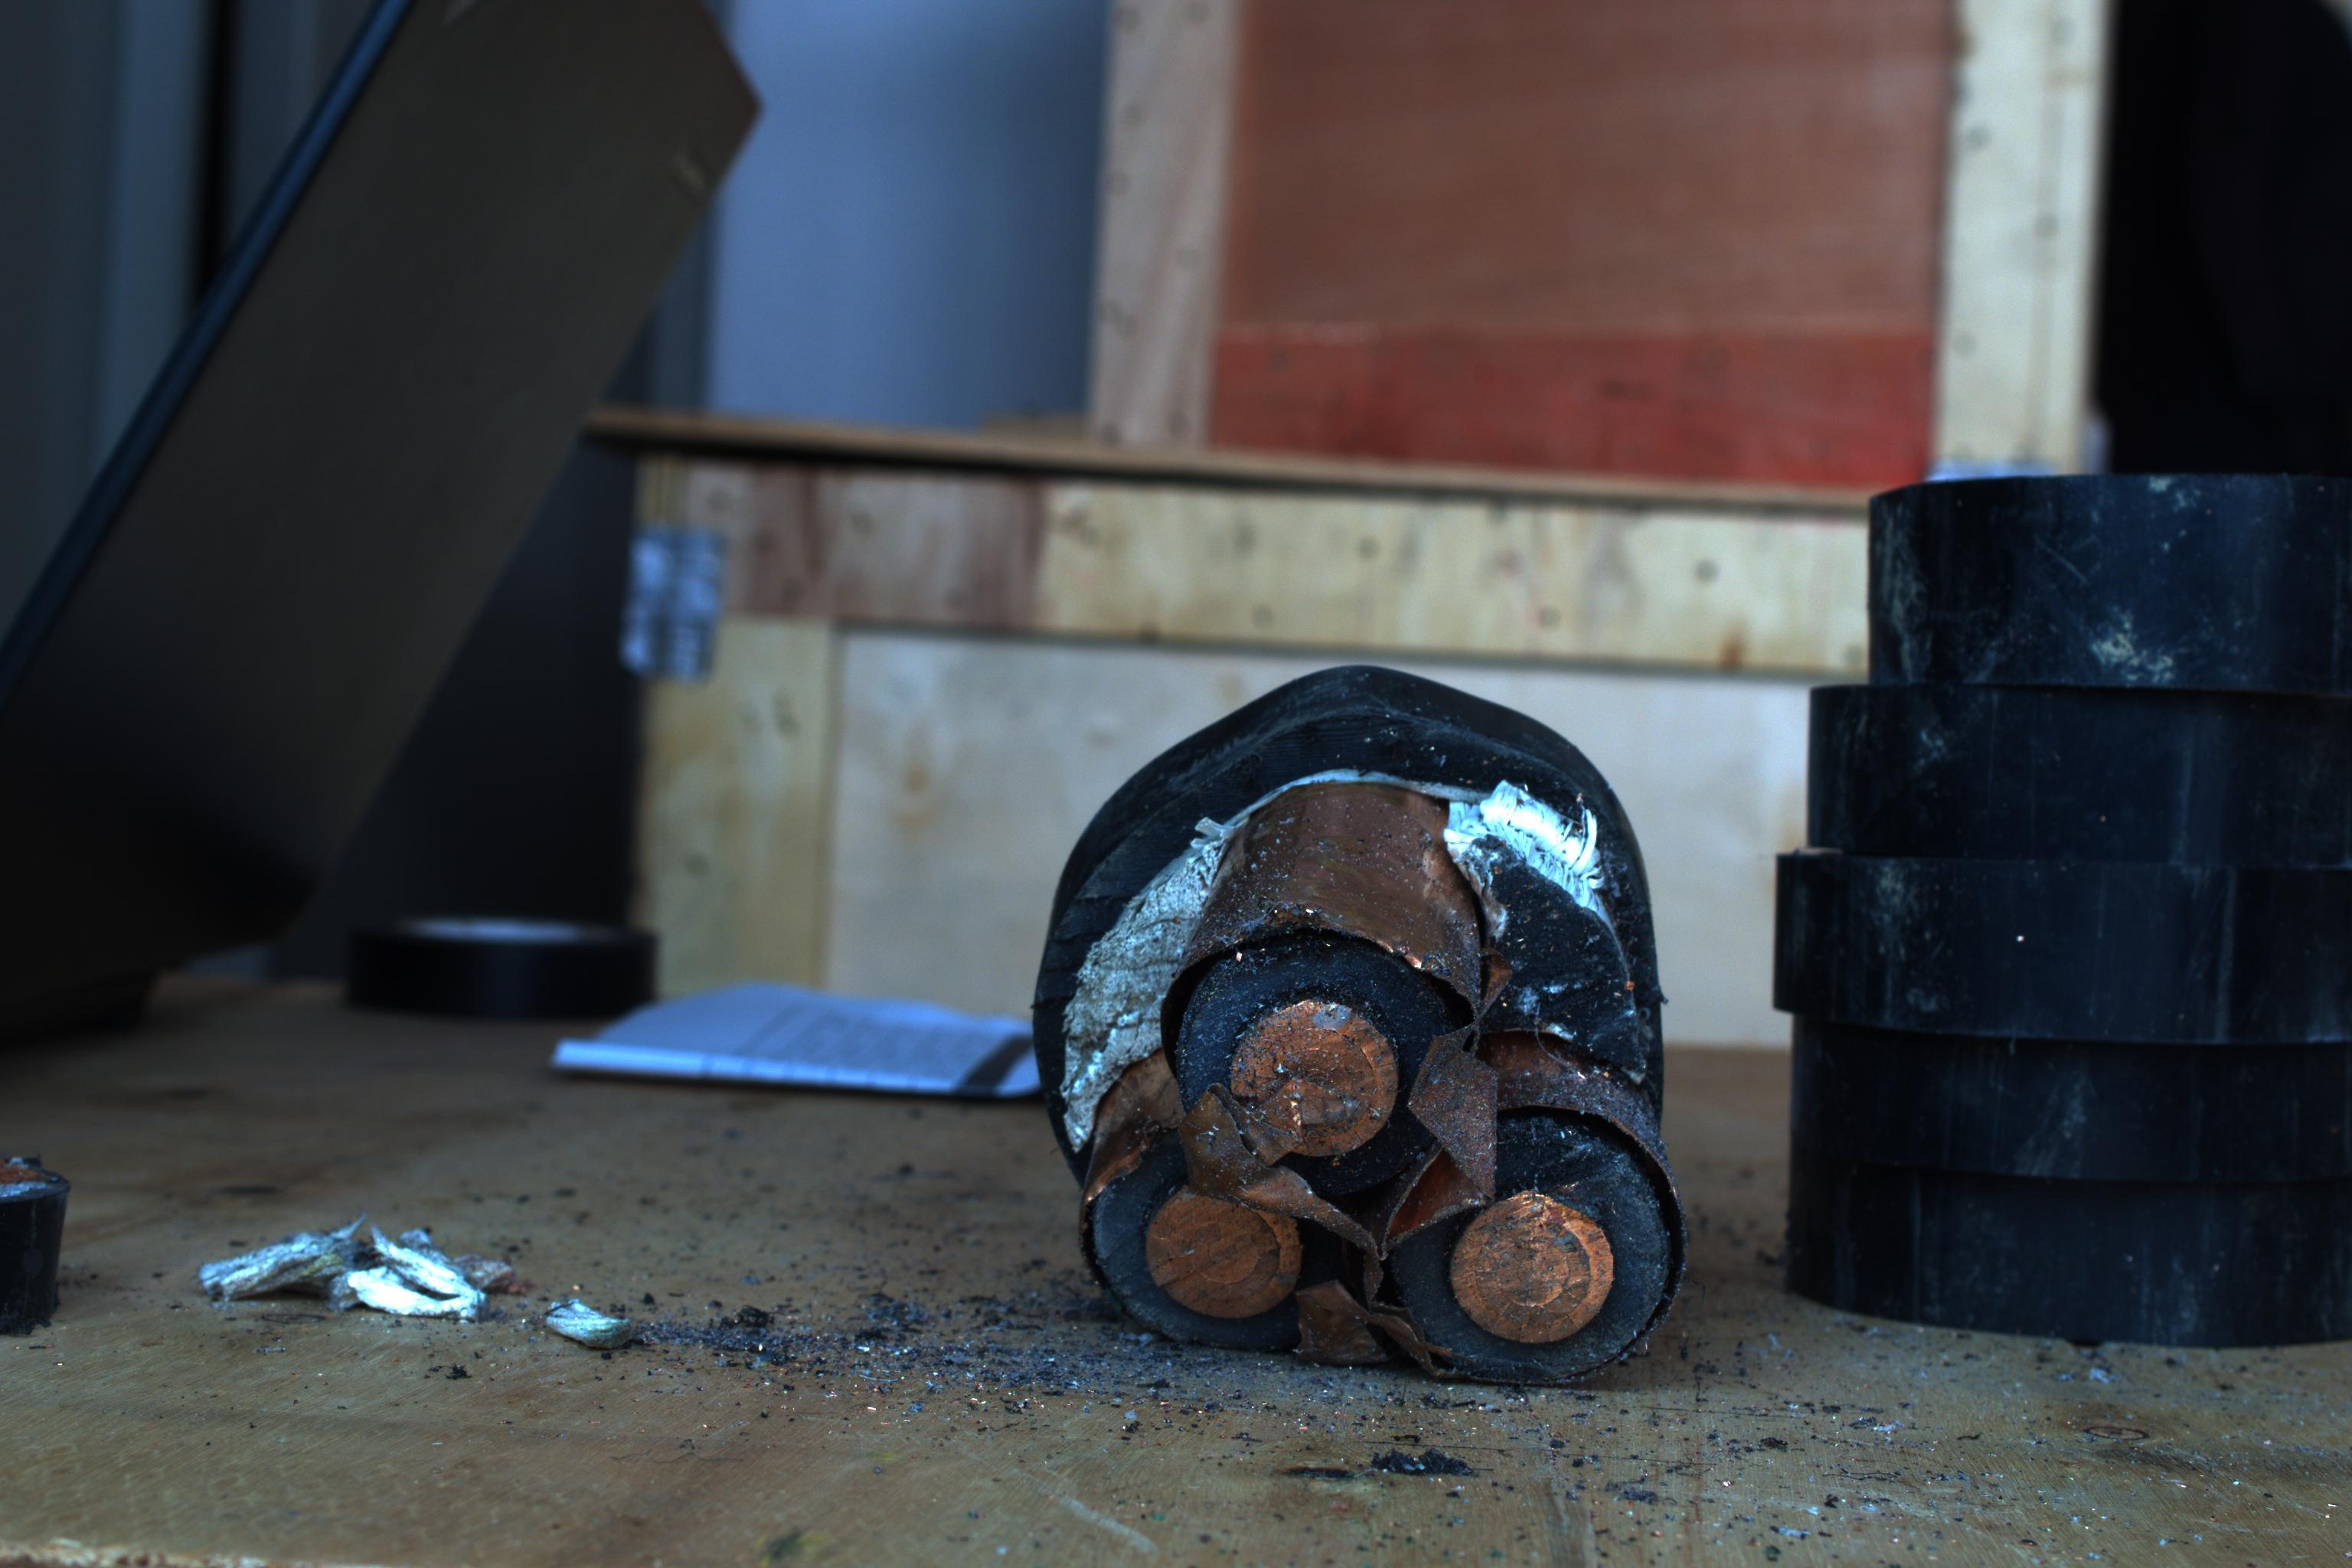ZA_YJV_8.7_10kV_3x240: (1032, 875, 1690, 1416)
